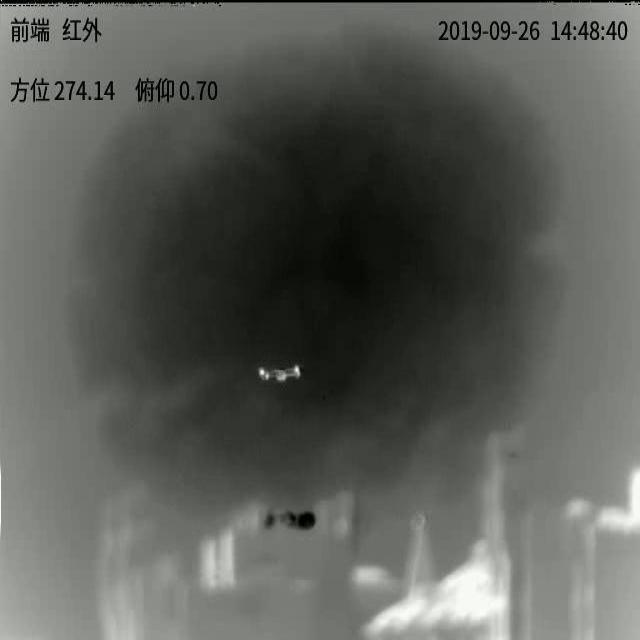drone: (258, 364, 301, 383)
